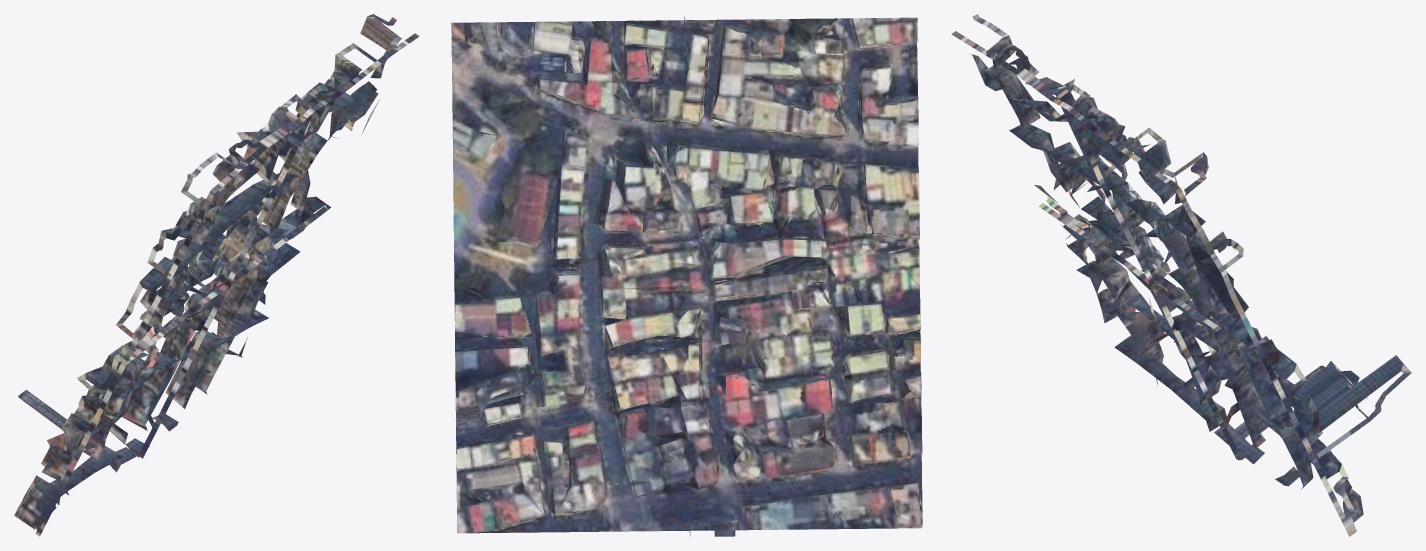
3 renders of one model, left to right at view 1: azimuth 30°, elevation 25°; view 2: azimuth 150°, elevation 25°; view 3: azimuth 270°, elevation 25°, orthographic. The views are drawn at different scales.
Bounding box in the file's own units: 314 × 291 × 295.
1 material, 1 textured.
